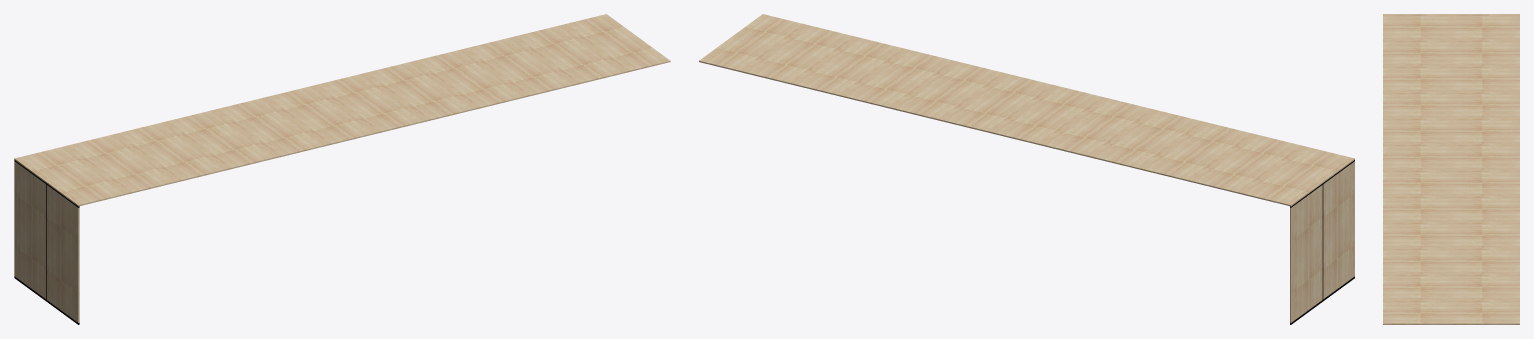
Rendered from rear-top-plywood.glb.
3 renders of one model, left to right at view 1: azimuth 30°, elevation 25°; view 2: azimuth 150°, elevation 25°; view 3: azimuth 270°, elevation 25°, orthographic. The views are drawn at different scales.
Parts seen in each view (by area): view 1: Obj_40FT Blank_Plywood_reartop_3, Obj_40FT Blank_Plywood_reartop_8, Obj_40FT Blank_Plywood_reartop_7, Obj_40FT Blank_Plywood_reartop_4, Obj_40FT Blank_Plywood_reartop_9, Obj_40FT Blank_Plywood_reartop_5, Obj_40FT Blank_Plywood_reartop_6, Obj_40FT Blank_Plywood_reartop_2, Obj_40FT Blank_Plywood_reartop_1, 40FT Blank_Plywood_reartop; view 2: Obj_40FT Blank_Plywood_reartop_3, Obj_40FT Blank_Plywood_reartop_8, Obj_40FT Blank_Plywood_reartop_7, Obj_40FT Blank_Plywood_reartop_5, Obj_40FT Blank_Plywood_reartop_6, Obj_40FT Blank_Plywood_reartop_4, Obj_40FT Blank_Plywood_reartop_9, Obj_40FT Blank_Plywood_reartop_2, 40FT Blank_Plywood_reartop, Obj_40FT Blank_Plywood_reartop_1, Obj_40FT Blank_Plywood_reartop; view 3: Obj_40FT Blank_Plywood_reartop_2, Obj_40FT Blank_Plywood_reartop_7, Obj_40FT Blank_Plywood_reartop_8, Obj_40FT Blank_Plywood_reartop_9, Obj_40FT Blank_Plywood_reartop_3, Obj_40FT Blank_Plywood_reartop_4, Obj_40FT Blank_Plywood_reartop_5, Obj_40FT Blank_Plywood_reartop_6.
Part boxes in pixels (bbox=[...]): Obj_40FT Blank_Plywood_reartop_3: bbox=[14, 140, 152, 206]; Obj_40FT Blank_Plywood_reartop_8: bbox=[163, 104, 301, 170]; Obj_40FT Blank_Plywood_reartop_7: bbox=[312, 68, 449, 133]; Obj_40FT Blank_Plywood_reartop_4: bbox=[89, 122, 226, 188]; Obj_40FT Blank_Plywood_reartop_9: bbox=[238, 86, 375, 151]; Obj_40FT Blank_Plywood_reartop_5: bbox=[386, 50, 523, 115]; Obj_40FT Blank_Plywood_reartop_6: bbox=[460, 32, 597, 97]; Obj_40FT Blank_Plywood_reartop_2: bbox=[534, 14, 670, 79]; Obj_40FT Blank_Plywood_reartop_1: bbox=[46, 185, 79, 322]; 40FT Blank_Plywood_reartop: bbox=[14, 161, 45, 298]; Obj_40FT Blank_Plywood_reartop_3: bbox=[1216, 140, 1354, 206]; Obj_40FT Blank_Plywood_reartop_8: bbox=[1068, 104, 1205, 170]; Obj_40FT Blank_Plywood_reartop_7: bbox=[919, 68, 1057, 133]; Obj_40FT Blank_Plywood_reartop_5: bbox=[845, 50, 982, 115]; Obj_40FT Blank_Plywood_reartop_6: bbox=[771, 31, 908, 97]; Obj_40FT Blank_Plywood_reartop_4: bbox=[1142, 122, 1279, 188]; Obj_40FT Blank_Plywood_reartop_9: bbox=[994, 86, 1131, 151]; Obj_40FT Blank_Plywood_reartop_2: bbox=[699, 14, 834, 79]; 40FT Blank_Plywood_reartop: bbox=[1290, 185, 1322, 322]; Obj_40FT Blank_Plywood_reartop_1: bbox=[1323, 161, 1354, 298]; Obj_40FT Blank_Plywood_reartop: bbox=[1290, 160, 1354, 324]; Obj_40FT Blank_Plywood_reartop_2: bbox=[1383, 285, 1519, 324]; Obj_40FT Blank_Plywood_reartop_7: bbox=[1383, 169, 1519, 208]; Obj_40FT Blank_Plywood_reartop_8: bbox=[1383, 91, 1519, 130]; Obj_40FT Blank_Plywood_reartop_9: bbox=[1383, 130, 1519, 169]; Obj_40FT Blank_Plywood_reartop_3: bbox=[1383, 14, 1519, 52]; Obj_40FT Blank_Plywood_reartop_4: bbox=[1383, 53, 1519, 91]; Obj_40FT Blank_Plywood_reartop_5: bbox=[1383, 208, 1519, 246]; Obj_40FT Blank_Plywood_reartop_6: bbox=[1383, 247, 1519, 285].
Size of the model in its own units: 11.9 by 2.3 by 2.22.
2 materials, 1 textured.
